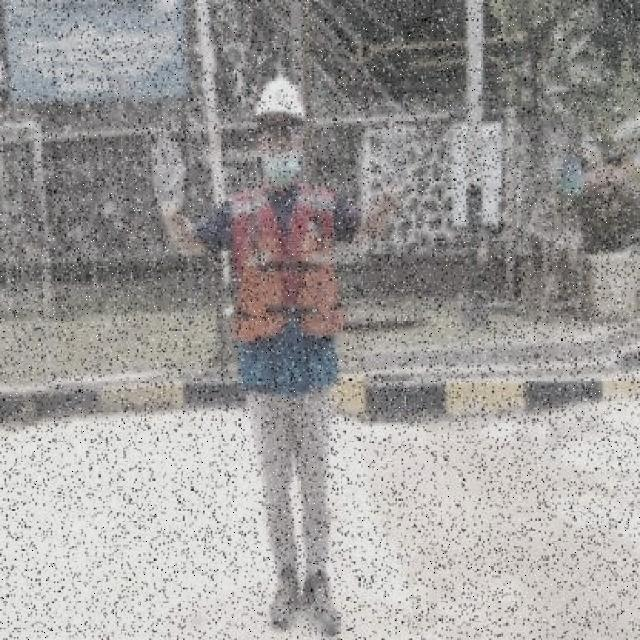Boots: (300, 570, 342, 636), (267, 565, 301, 630)
Gloves: (372, 121, 410, 201), (149, 136, 186, 216)
Helmet: (251, 72, 311, 126)
Mask: (232, 234, 346, 342)
